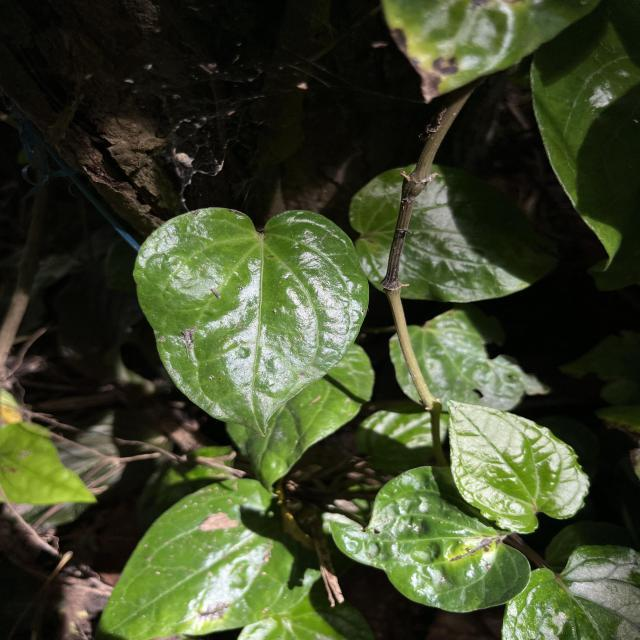Piper betle: (129, 205, 373, 440)
